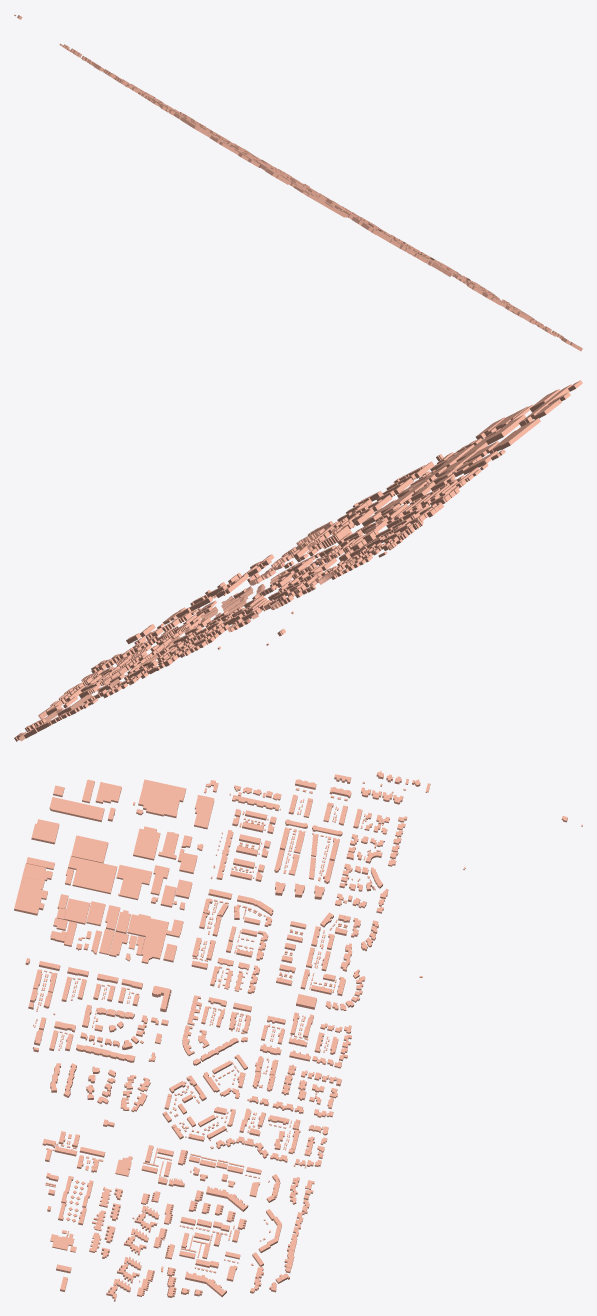
3 views of the same model, one above another, from view 1: azimuth 30°, elevation 25°; view 2: azimuth 150°, elevation 25°; view 3: azimuth 270°, elevation 25° (orthographic). The views are drawn at different scales.
Bounding box in the file's own units: 1012 × 759 × 1190.
